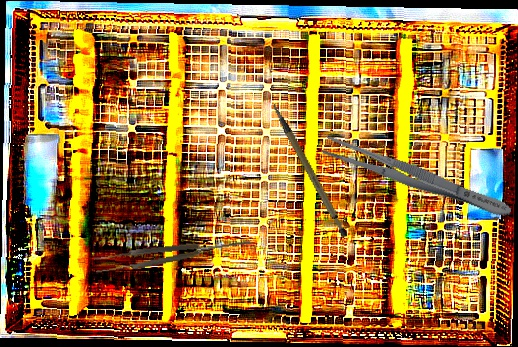Dressing Forceps: (320, 132, 515, 224)
Scalpel Handle: (271, 93, 350, 246)
Tissue Forceps: (93, 233, 252, 275)
